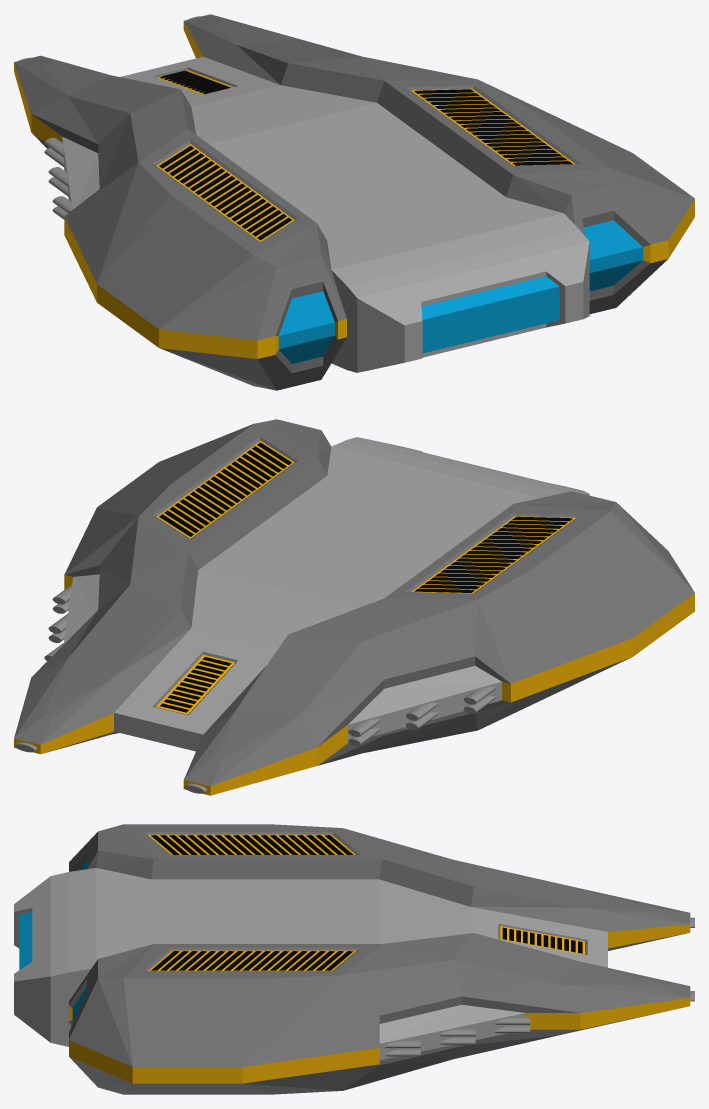
The model's file is ares.dae.
The picture shows the model from 3 angles, top to bottom: view 1: azimuth 30°, elevation 25°; view 2: azimuth 150°, elevation 25°; view 3: azimuth 270°, elevation 25°; orthographic projection. The views are drawn at different scales.
Parts seen in each view (by area): view 1: Ares; view 2: Ares; view 3: Ares.
Part boxes in pixels (box(x1,y1,x2,y2)): Ares: box(14, 14, 694, 390); Ares: box(14, 419, 694, 795); Ares: box(14, 824, 694, 1094).
Bounding box in the file's own units: 60 × 74.5 × 14.
